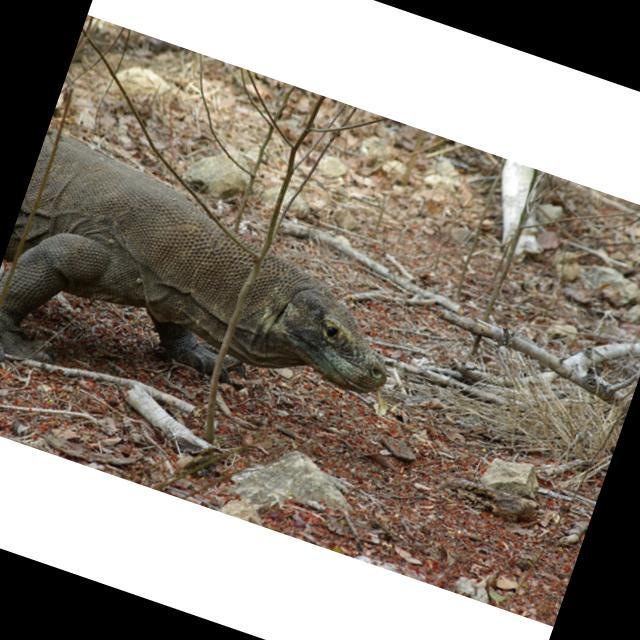KomodoDragon: (0, 125, 427, 473)
